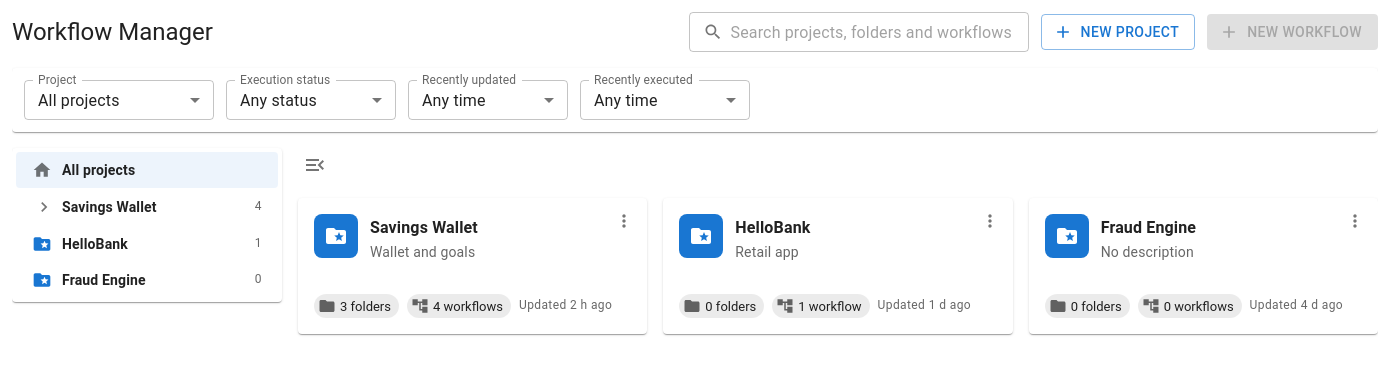
search and filters › the project filter limits the view to that project
This screenshot has width=1390, height=377.
Expected: the button with aria-label "open project Savings Wallet" is shown, [298,198,647,334]
Click the dropdown labelled "project" at [79, 100], box [38,90,120,110]
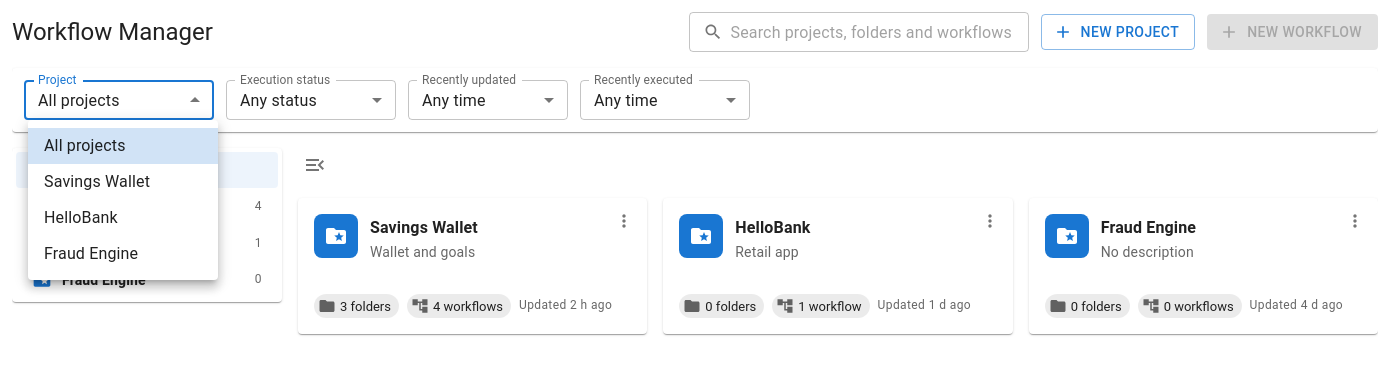
Click the option "HelloBank" at [81, 218], box [44,208,118,227]
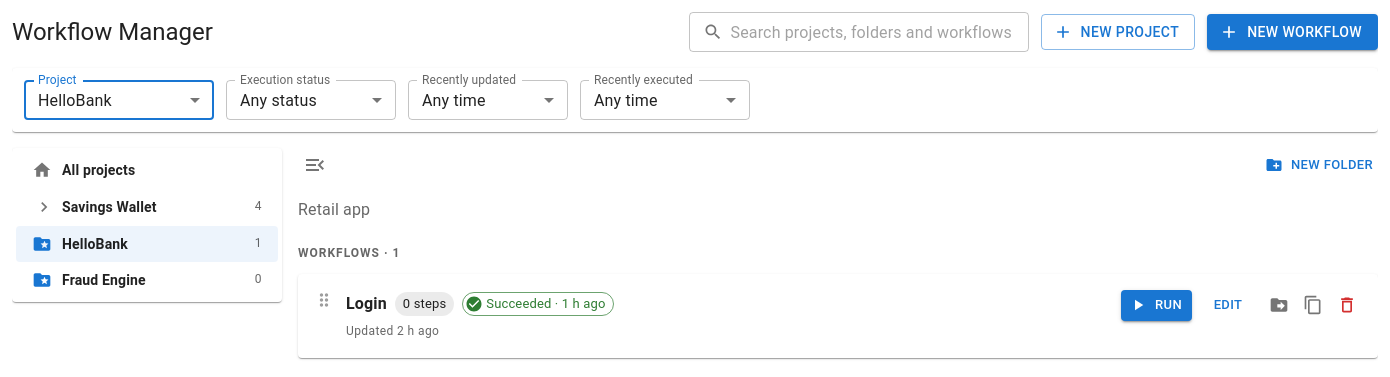
Now the element with test id "workflow-5" is shown, box [298,274,1378,358]
